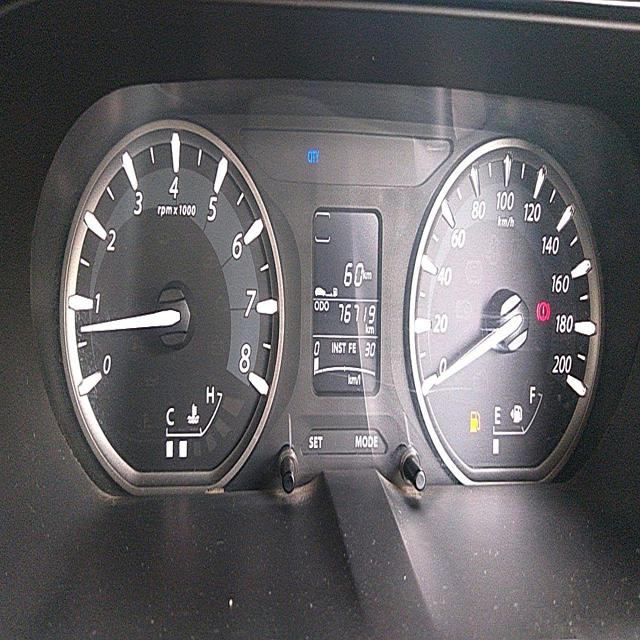odometer: (335, 302, 377, 324)
